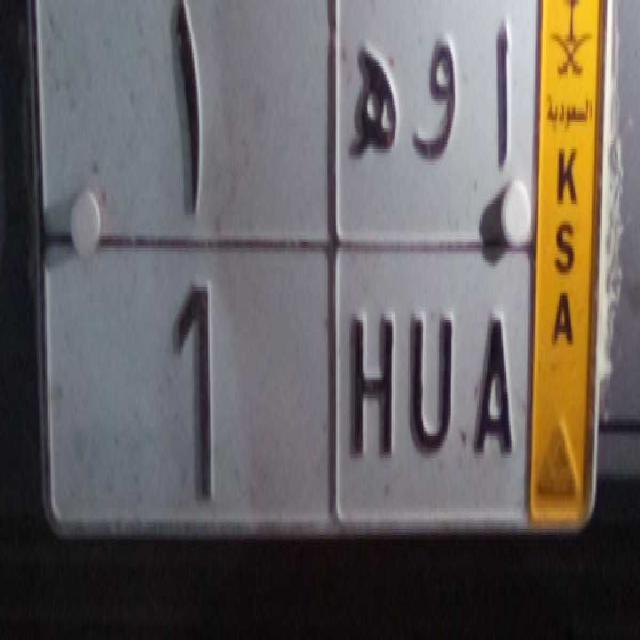license_plate: (91, 230, 532, 568)
